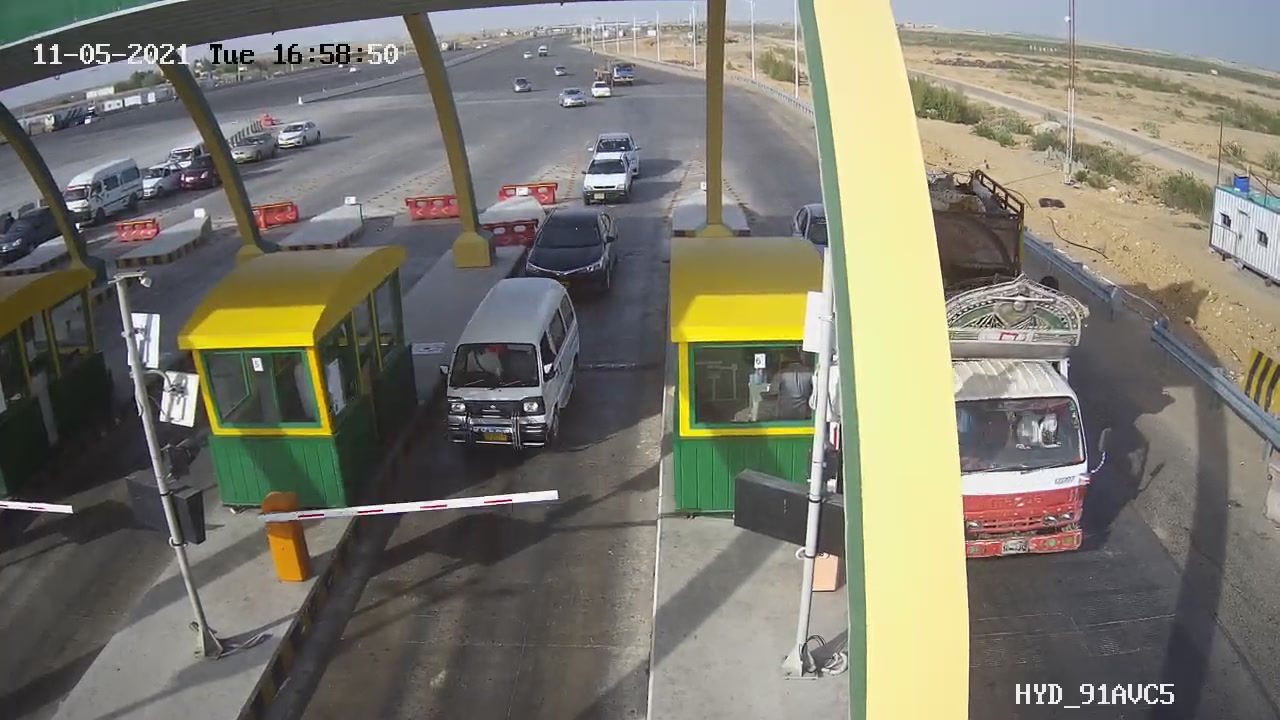F1: (426, 262, 601, 468), (507, 192, 631, 312)
